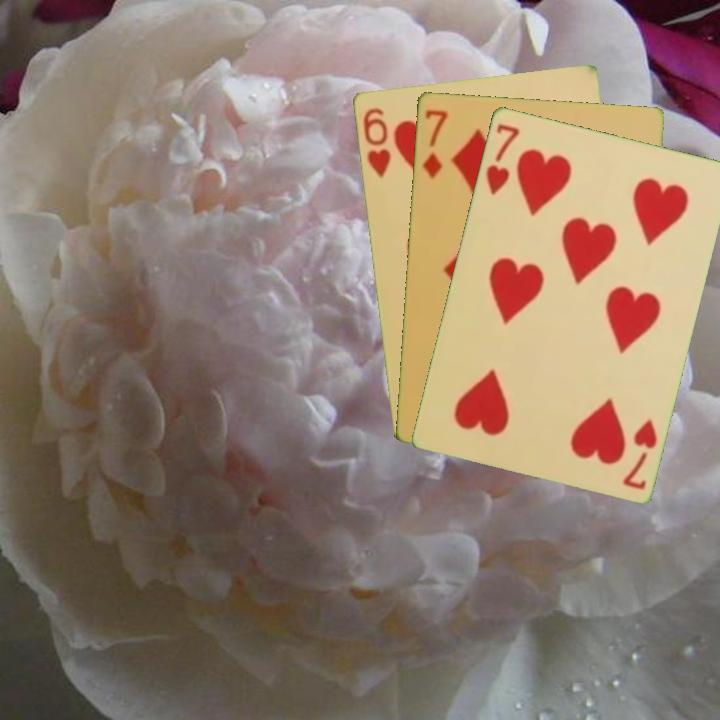6h: (359, 104, 393, 180)
7d: (419, 106, 450, 181)
7h: (482, 119, 522, 198), (619, 415, 660, 492)
